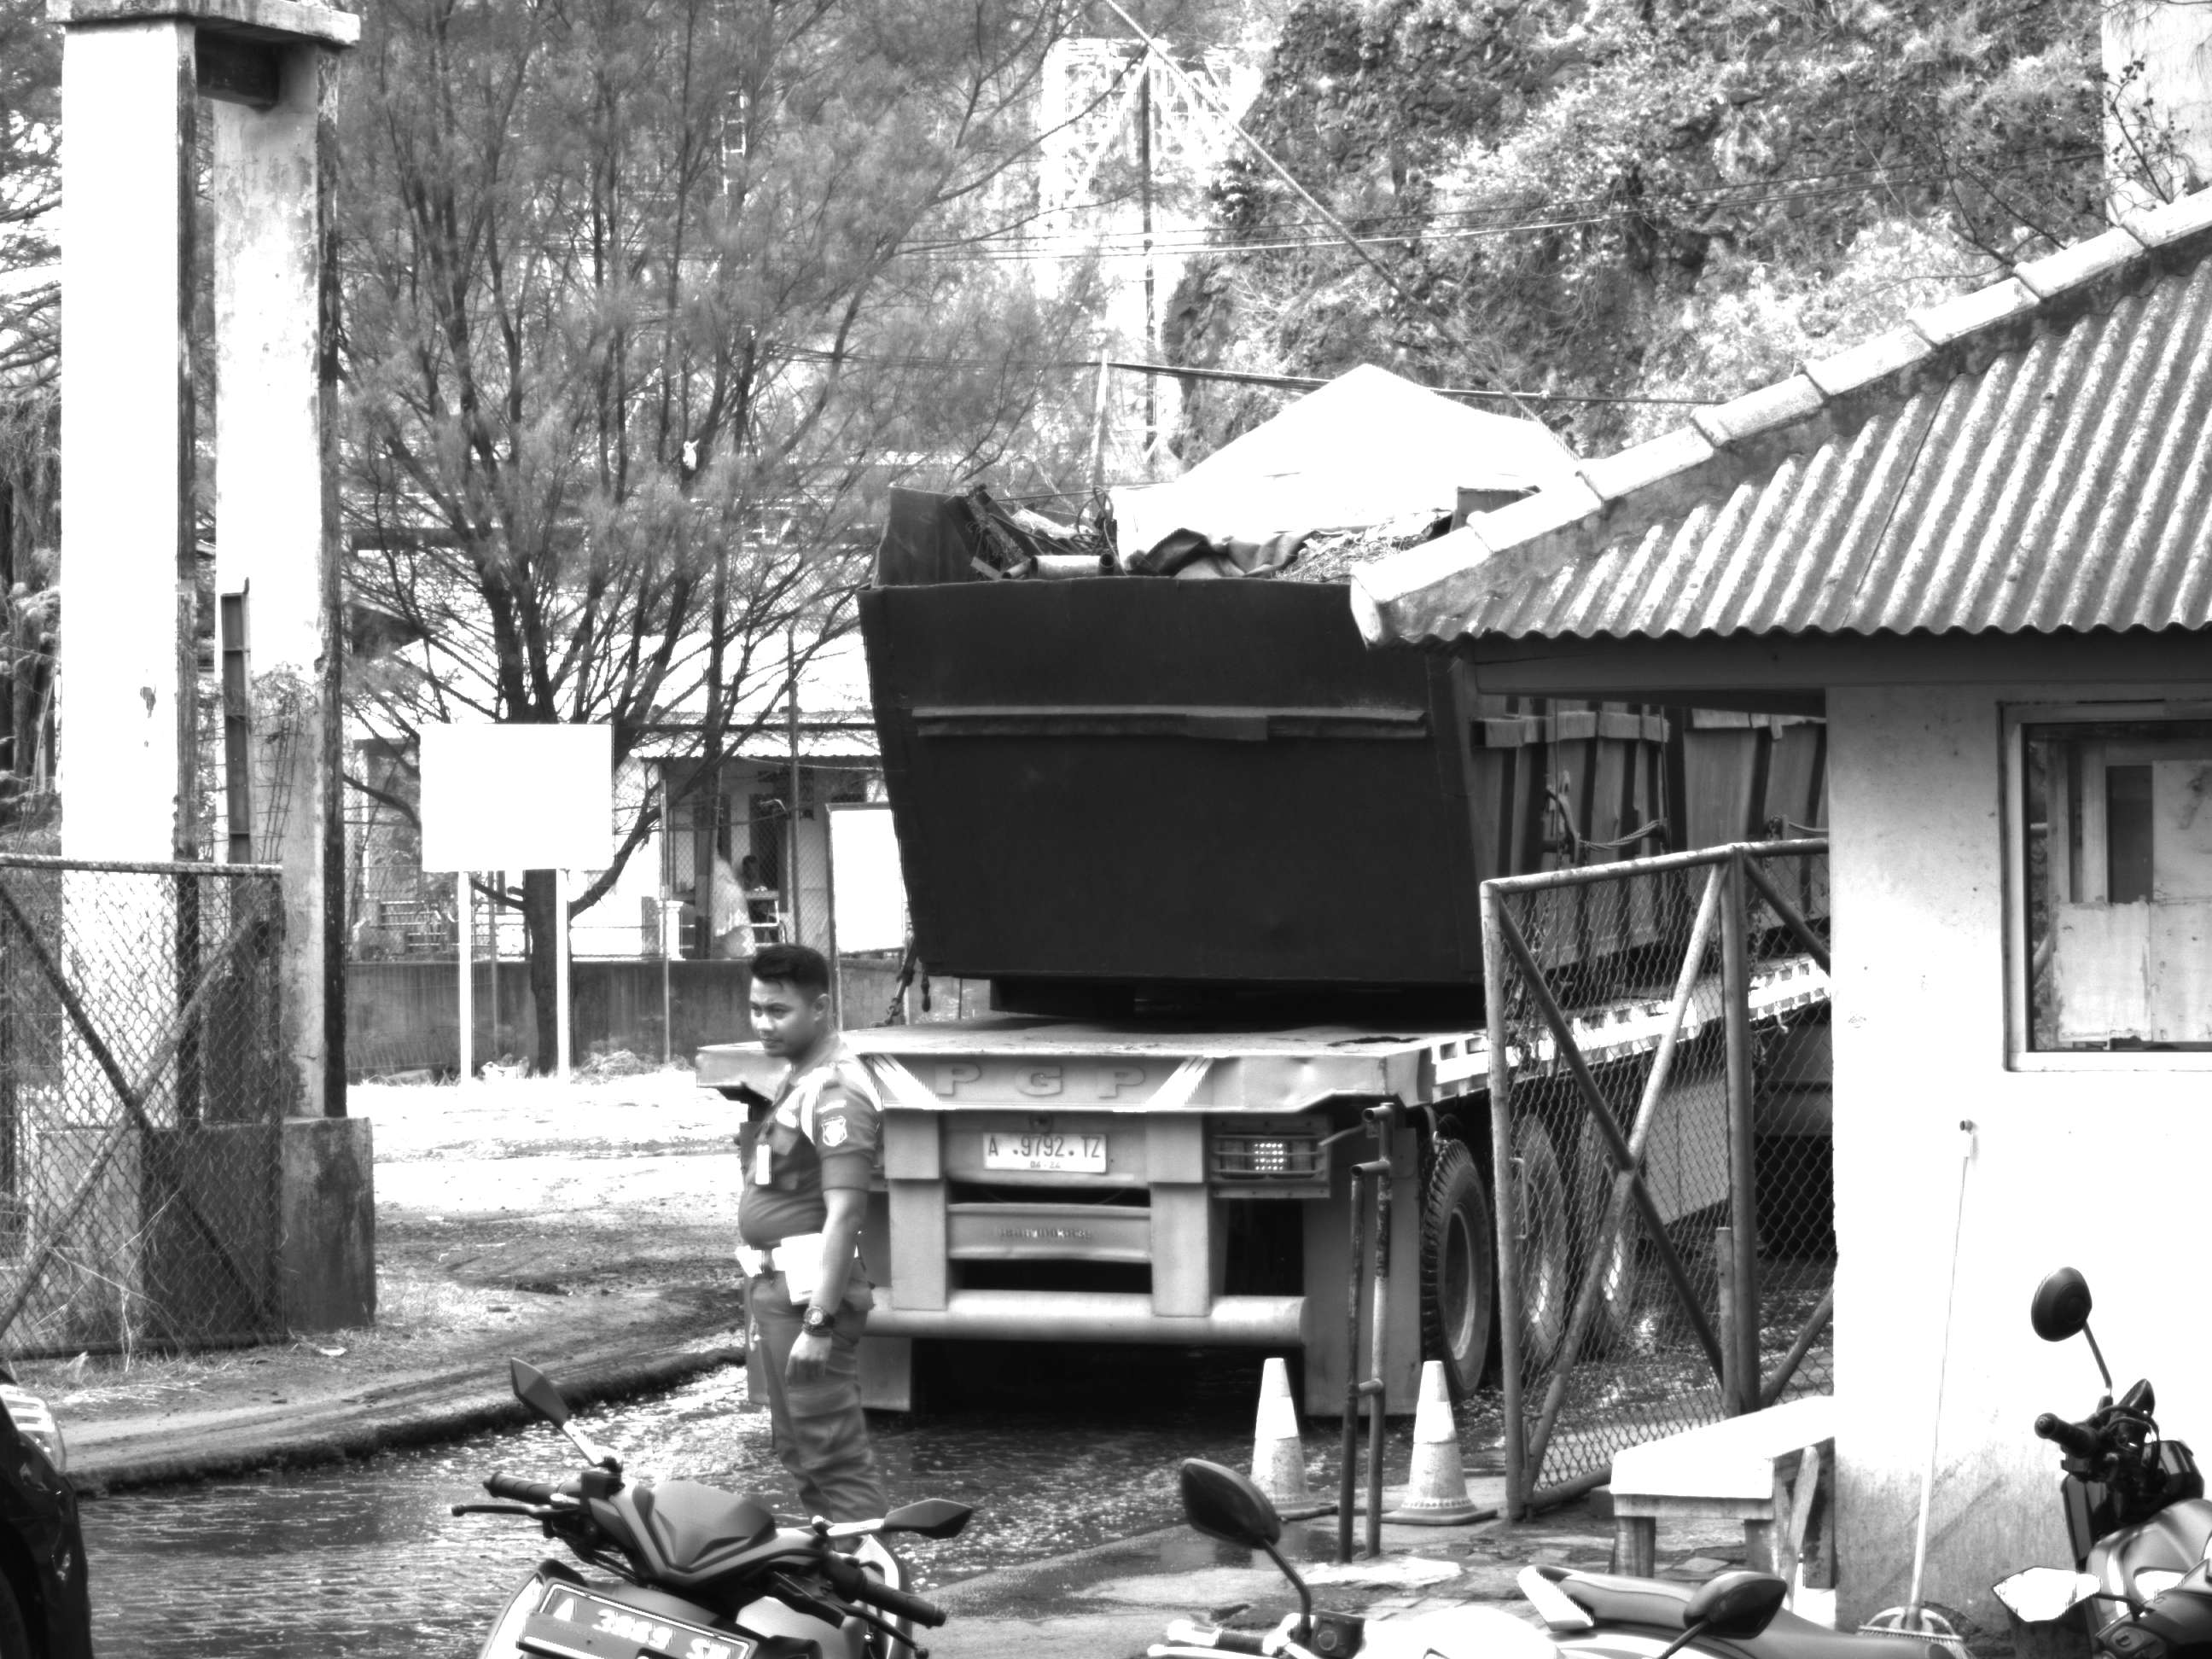day_truck_rear: (683, 1014, 1493, 1423)
plate: (981, 1132, 1111, 1172)
